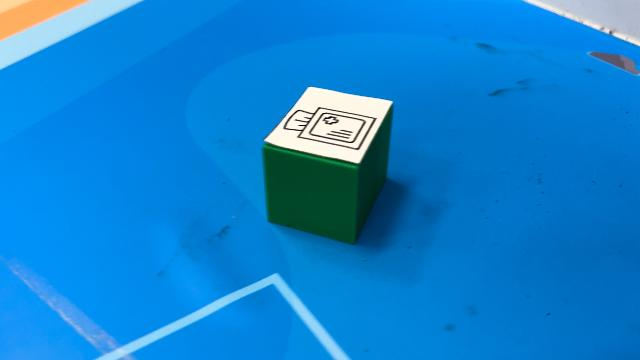napkin: (264, 87, 396, 247)
